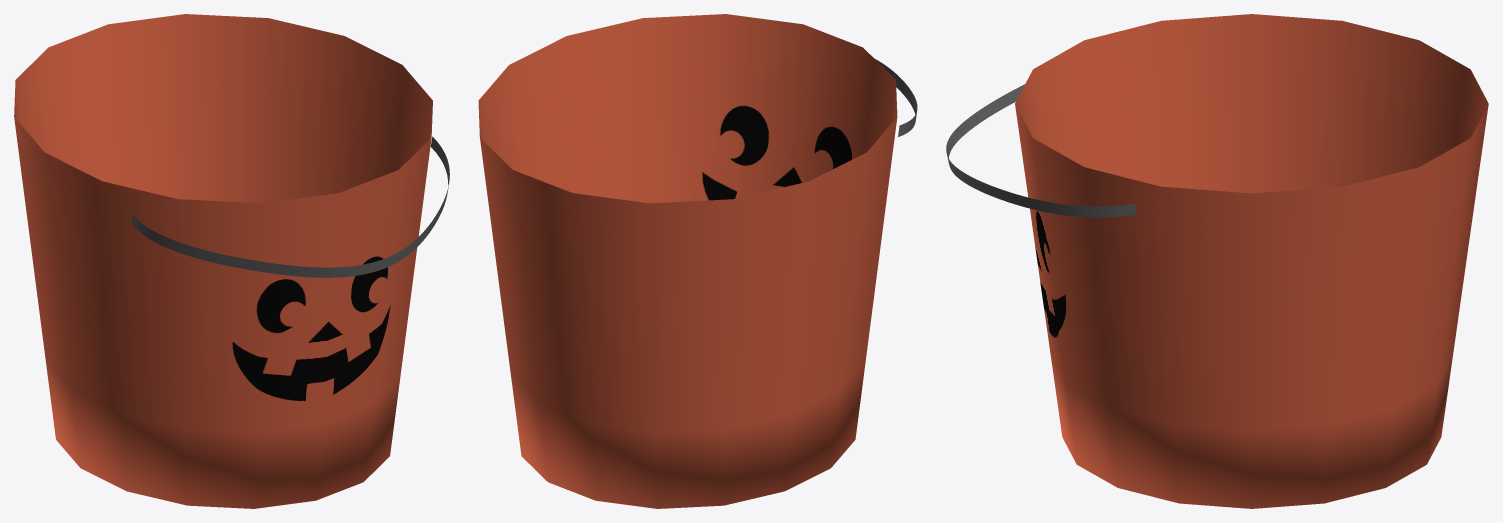
File: bucket.glb
3 renders of one model, left to right at view 1: azimuth 30°, elevation 25°; view 2: azimuth 150°, elevation 25°; view 3: azimuth 270°, elevation 25°, orthographic. The views are drawn at different scales.
Parts seen in each view (by area): view 1: Bucket; view 2: Bucket; view 3: Bucket.
Part boxes in pixels (box(x1,y1,x2,y2)): Bucket: box(14, 14, 449, 508); Bucket: box(478, 14, 917, 508); Bucket: box(946, 14, 1488, 508).
Size of the model in its own units: 6.27 by 5.44 by 8.02.
2 materials, 1 textured.
